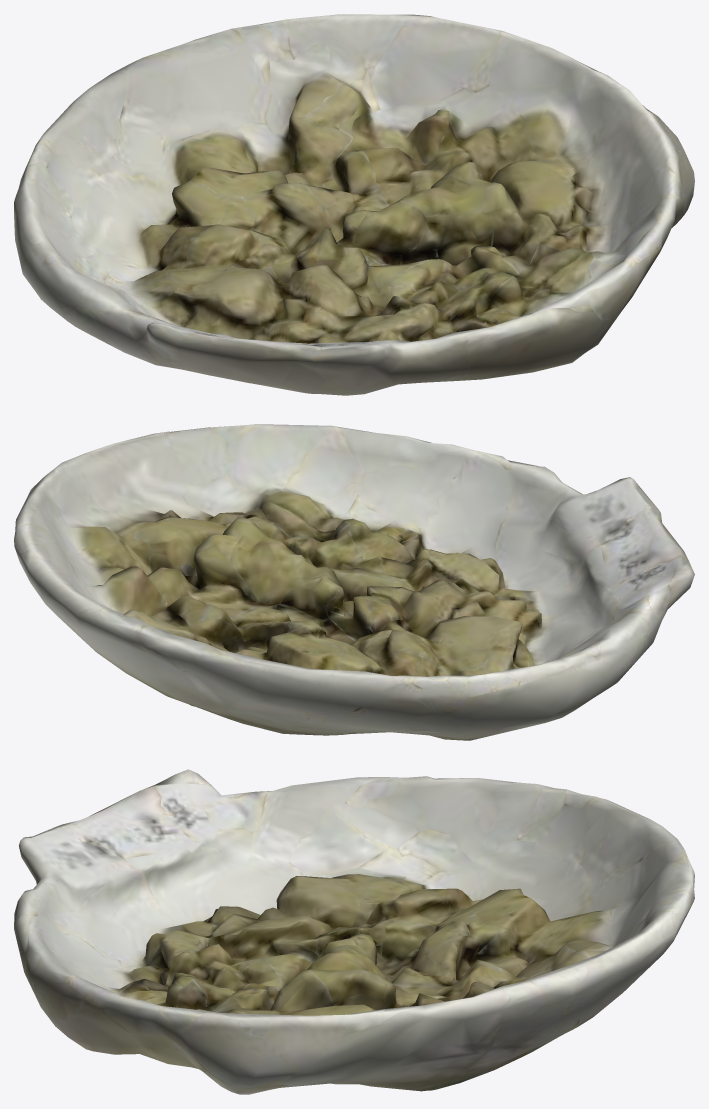
File: hall.glb
3 views of the same model, one above another, from view 1: azimuth 30°, elevation 25°; view 2: azimuth 150°, elevation 25°; view 3: azimuth 270°, elevation 25° (orthographic). The views are drawn at different scales.
Bounding box in the file's own units: 0.7586 × 0.1932 × 0.7339.
Materials: 1 (1 with a texture image).
